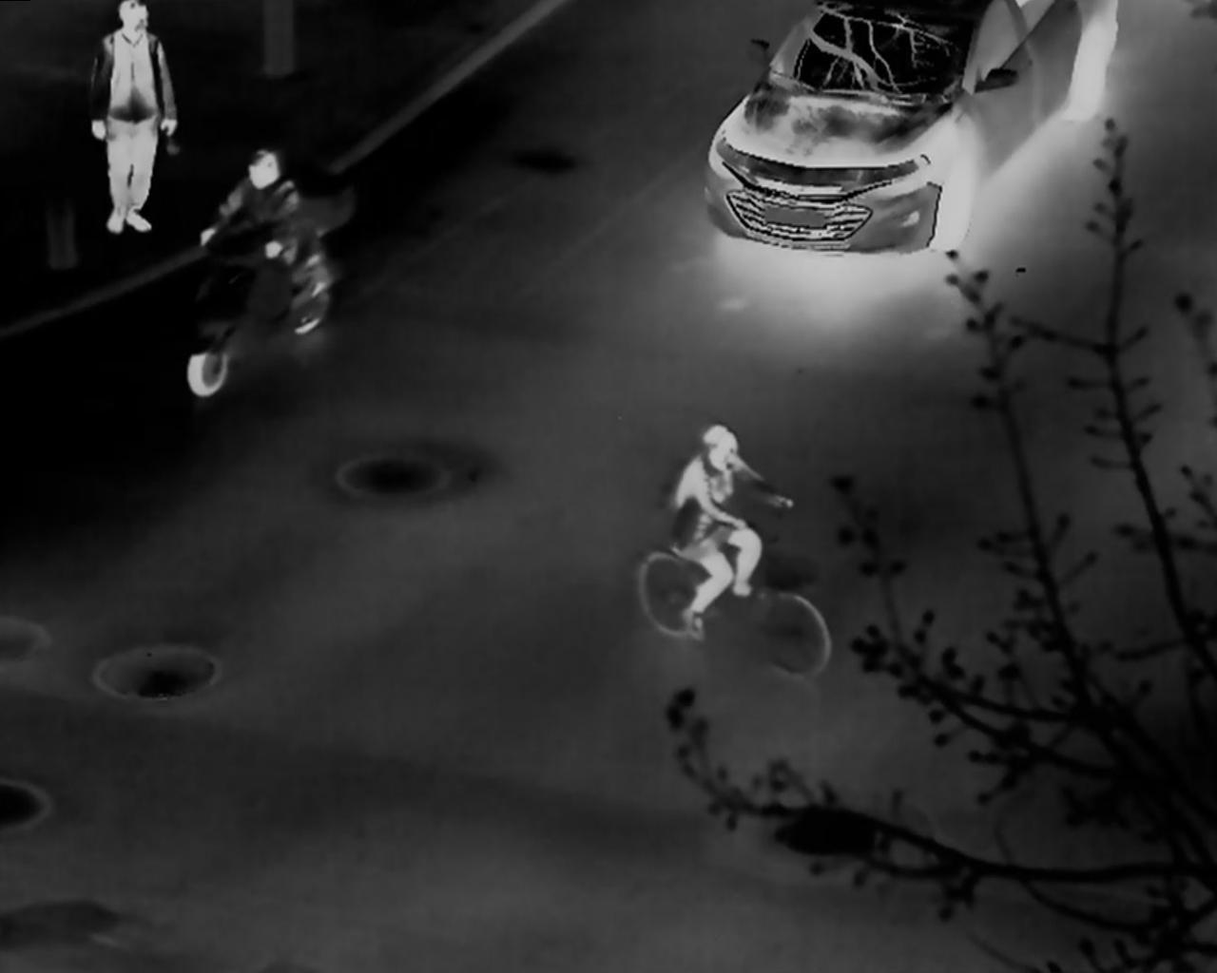person: (673, 423, 791, 640), (199, 147, 299, 268)
